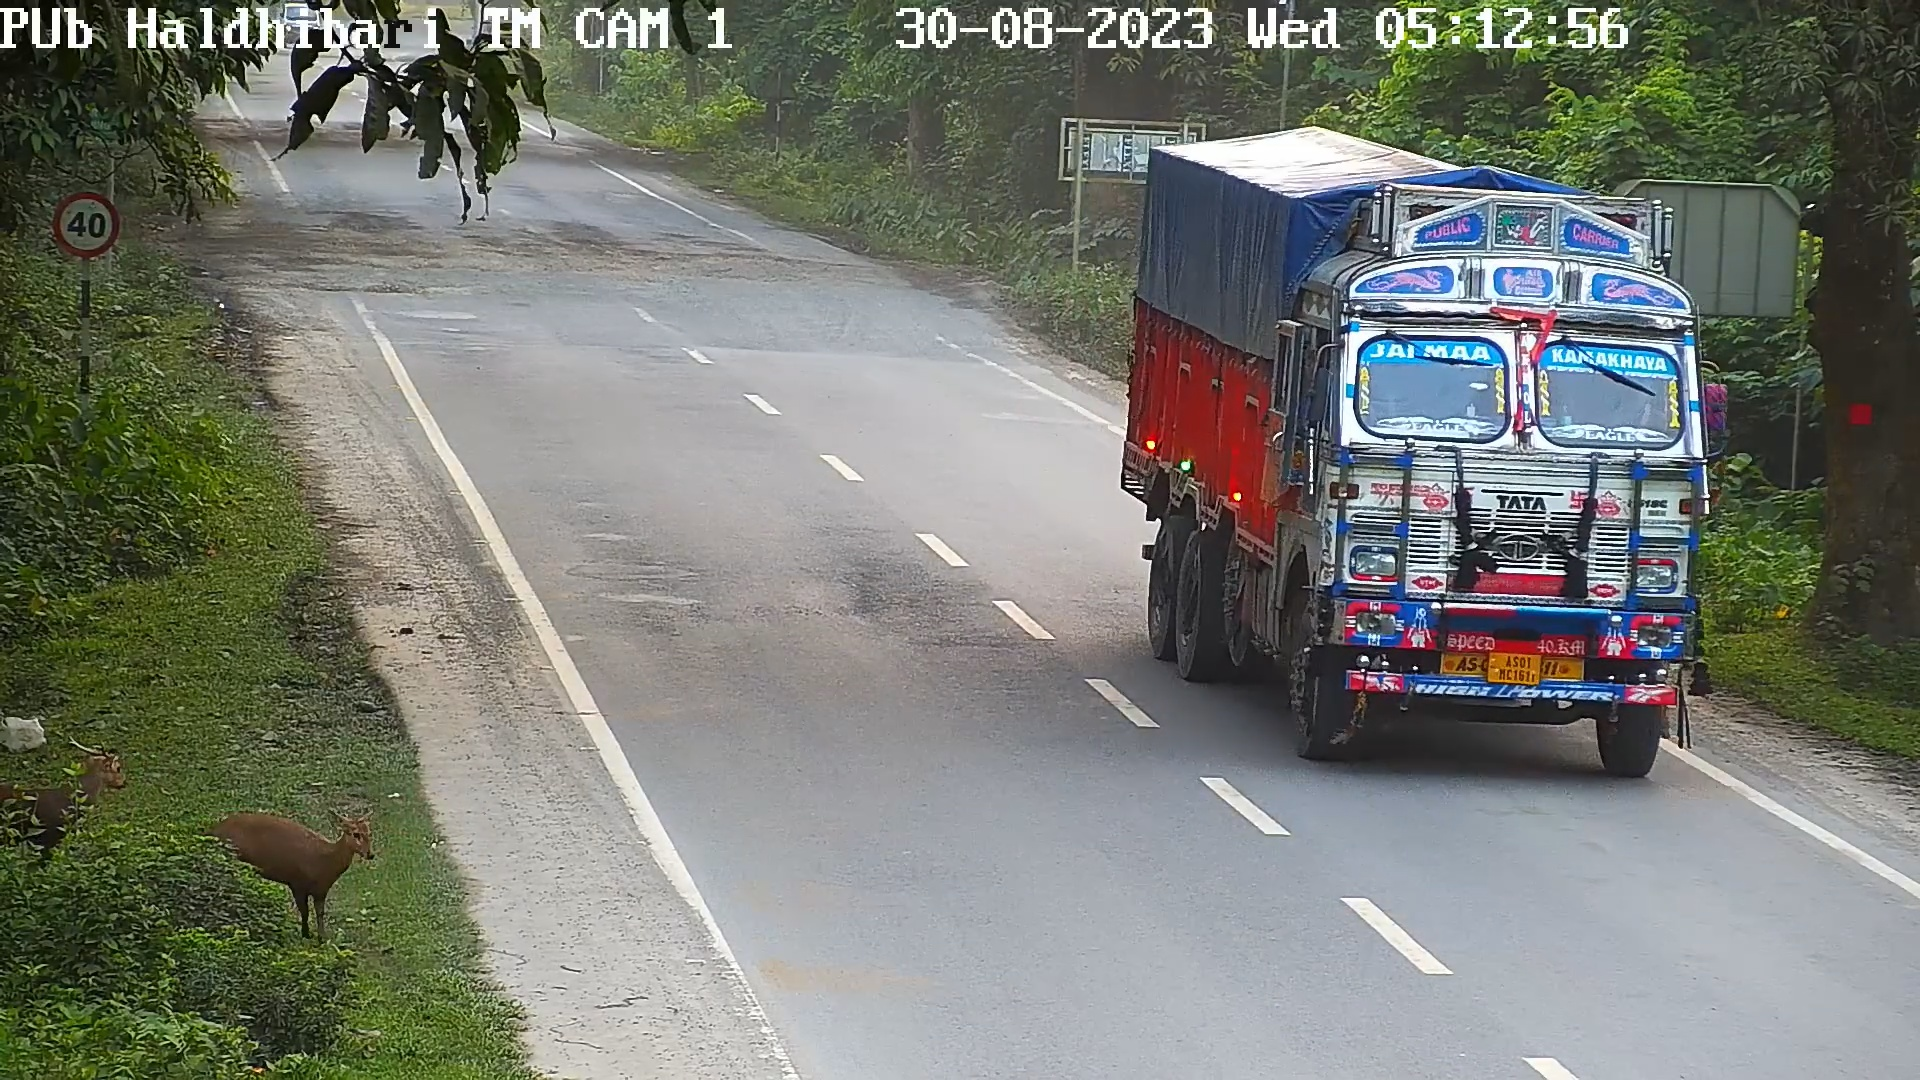deers: (171, 752, 409, 963), (13, 686, 135, 969)
